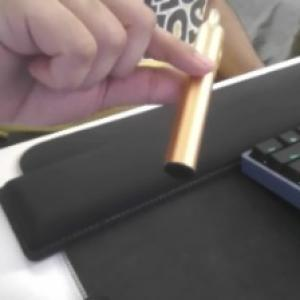Golden-E-Ciggirate: (162, 7, 226, 181)
